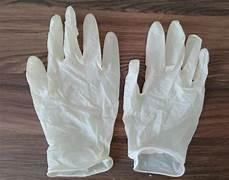Glove: (26, 7, 119, 176), (123, 21, 208, 176)
